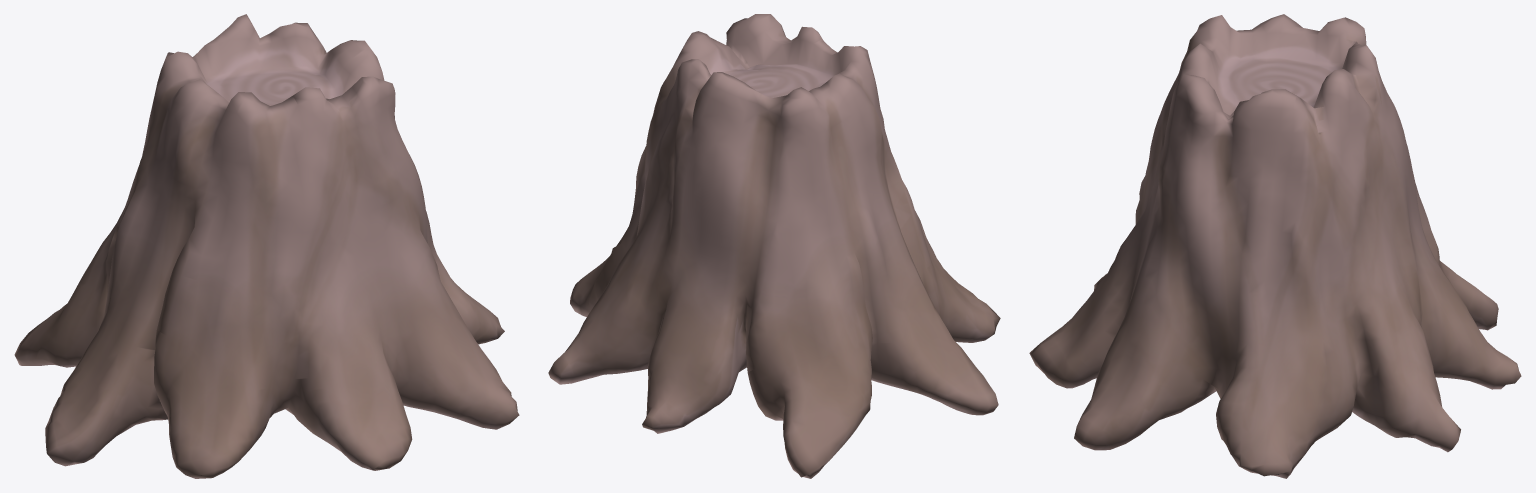
Rendered from TrunkWhole1.fbx.
3 views of the same model, side by side, from view 1: azimuth 30°, elevation 25°; view 2: azimuth 150°, elevation 25°; view 3: azimuth 270°, elevation 25° (orthographic). The views are drawn at different scales.
Visible parts, largest first — view 1: WholeTrunk; view 2: WholeTrunk; view 3: WholeTrunk.
Part boxes in pixels (x1,y1,x2,y2): WholeTrunk: (14,14,519,478); WholeTrunk: (548,14,1000,478); WholeTrunk: (1029,14,1521,478).
Size of the model in its own units: 695 by 517 by 645.
Materials: 1 (1 with a texture image).
